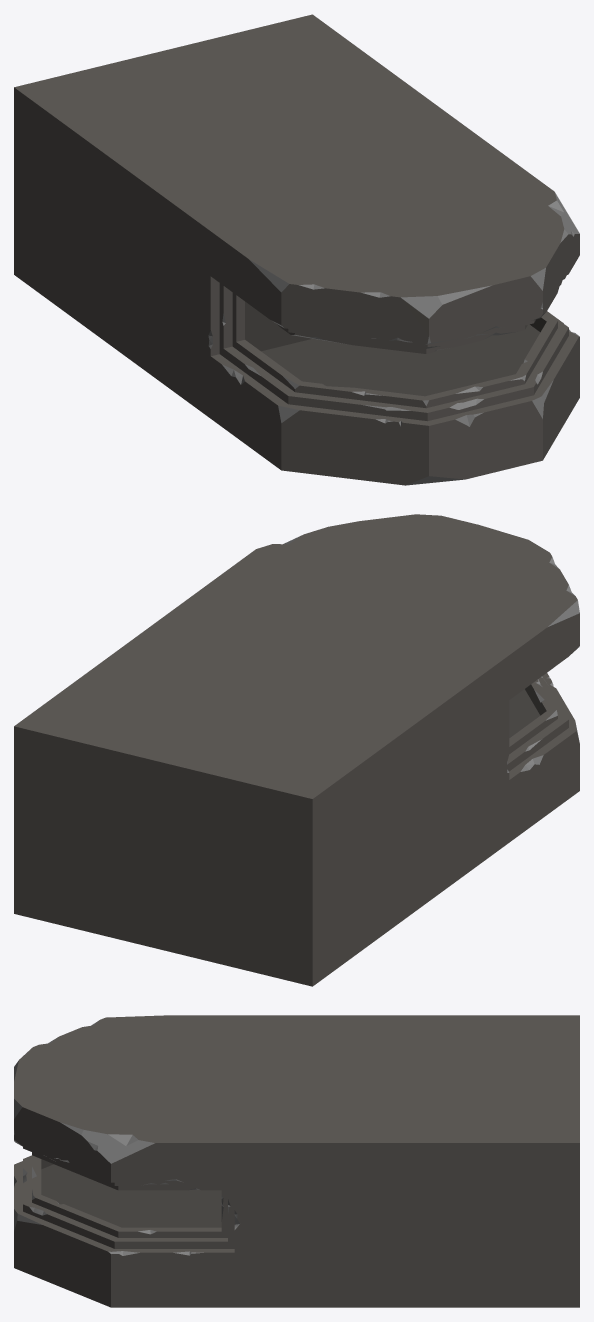
The model's file is 20C_Bunker03.fbx.
3 renders of one model, top to bottom at view 1: azimuth 30°, elevation 25°; view 2: azimuth 150°, elevation 25°; view 3: azimuth 270°, elevation 25°, orthographic. The views are drawn at different scales.
Parts seen in each view (by area): view 1: 20C_Bunker03; view 2: 20C_Bunker03; view 3: 20C_Bunker03.
Boxes of the visible parts, x1,y1,x2,y2 form: 20C_Bunker03: (14,14,579,485); 20C_Bunker03: (14,514,579,986); 20C_Bunker03: (14,1015,579,1307).
Size of the model in its own units: 99.99 by 60 by 187.
